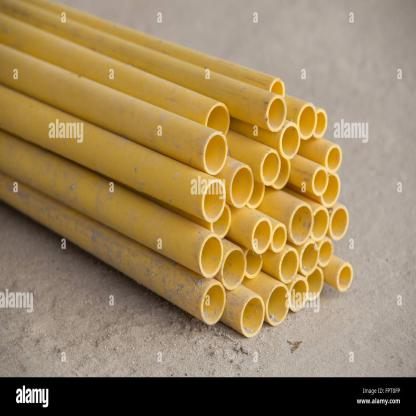PVC: (2, 0, 355, 341)
